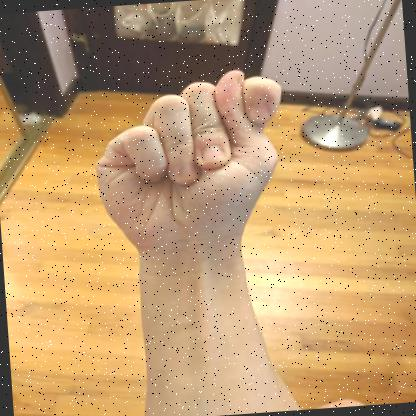T: (96, 70, 281, 264)
